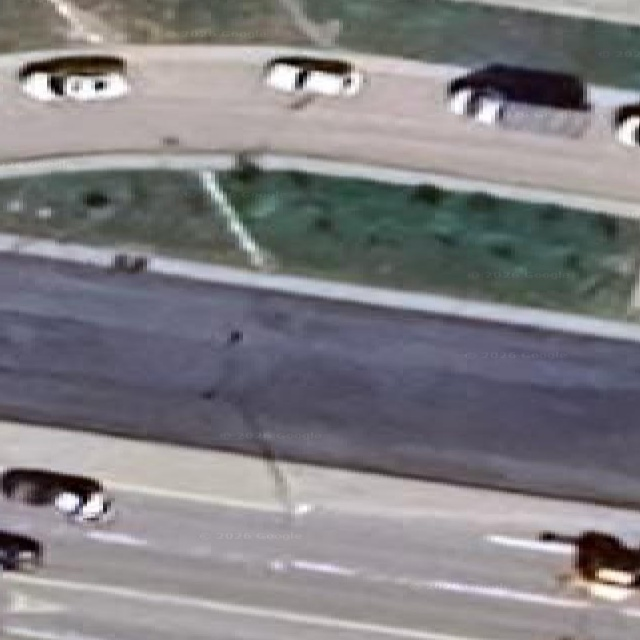car: (447, 64, 590, 123), (540, 531, 639, 600), (0, 467, 114, 522), (20, 55, 128, 100), (263, 55, 363, 96), (24, 72, 127, 100), (57, 72, 127, 100), (55, 489, 114, 522), (0, 531, 40, 569), (612, 101, 639, 144), (111, 252, 147, 272), (51, 76, 54, 83)
